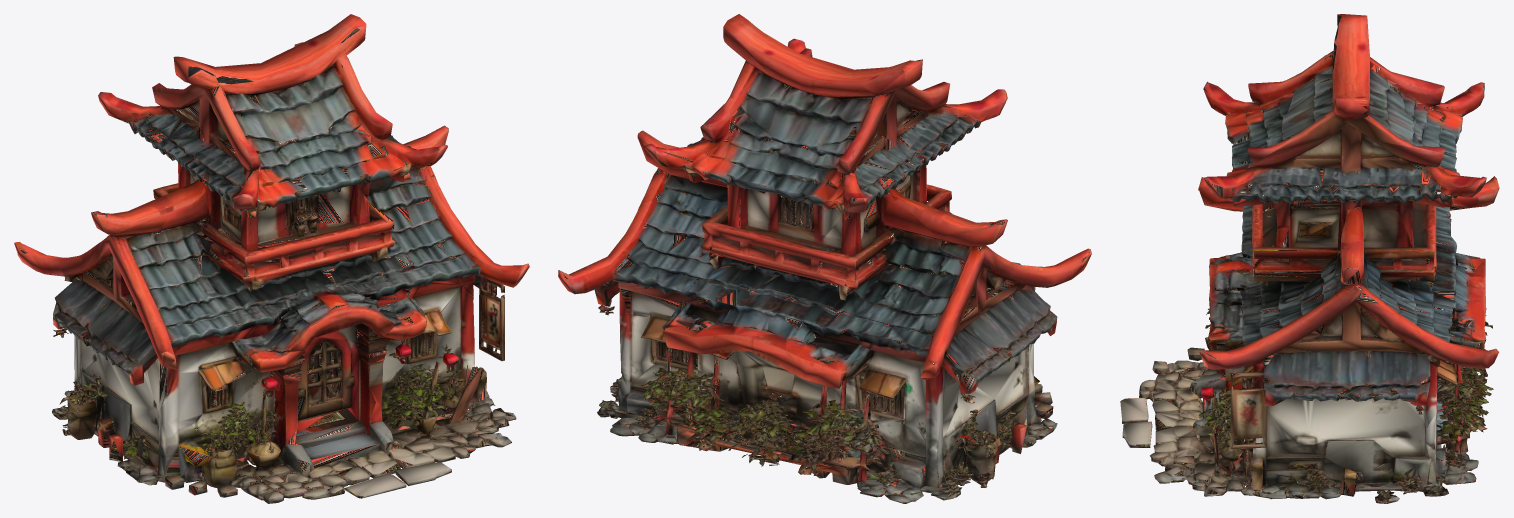
The model's file is bq_teahouse.glb.
3 views of the same model, side by side, from view 1: azimuth 30°, elevation 25°; view 2: azimuth 150°, elevation 25°; view 3: azimuth 270°, elevation 25° (orthographic). The views are drawn at different scales.
Size of the model in its own units: 1.9 by 1.78 by 1.7.
1 material, 1 textured.
